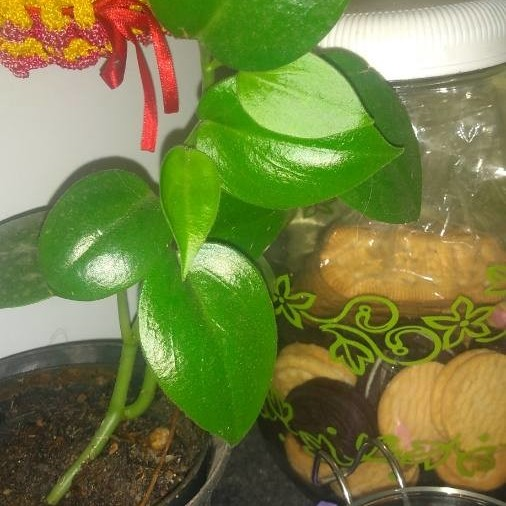obstacle: (48, 15, 434, 431)
